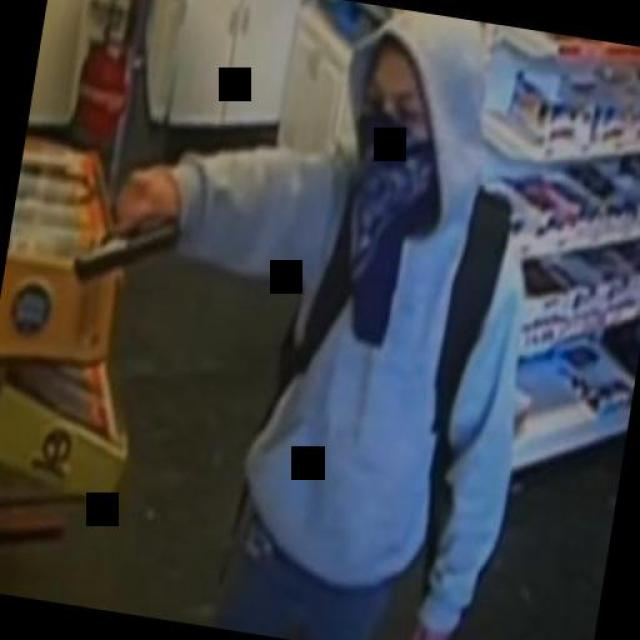gun: (64, 156, 191, 298)
